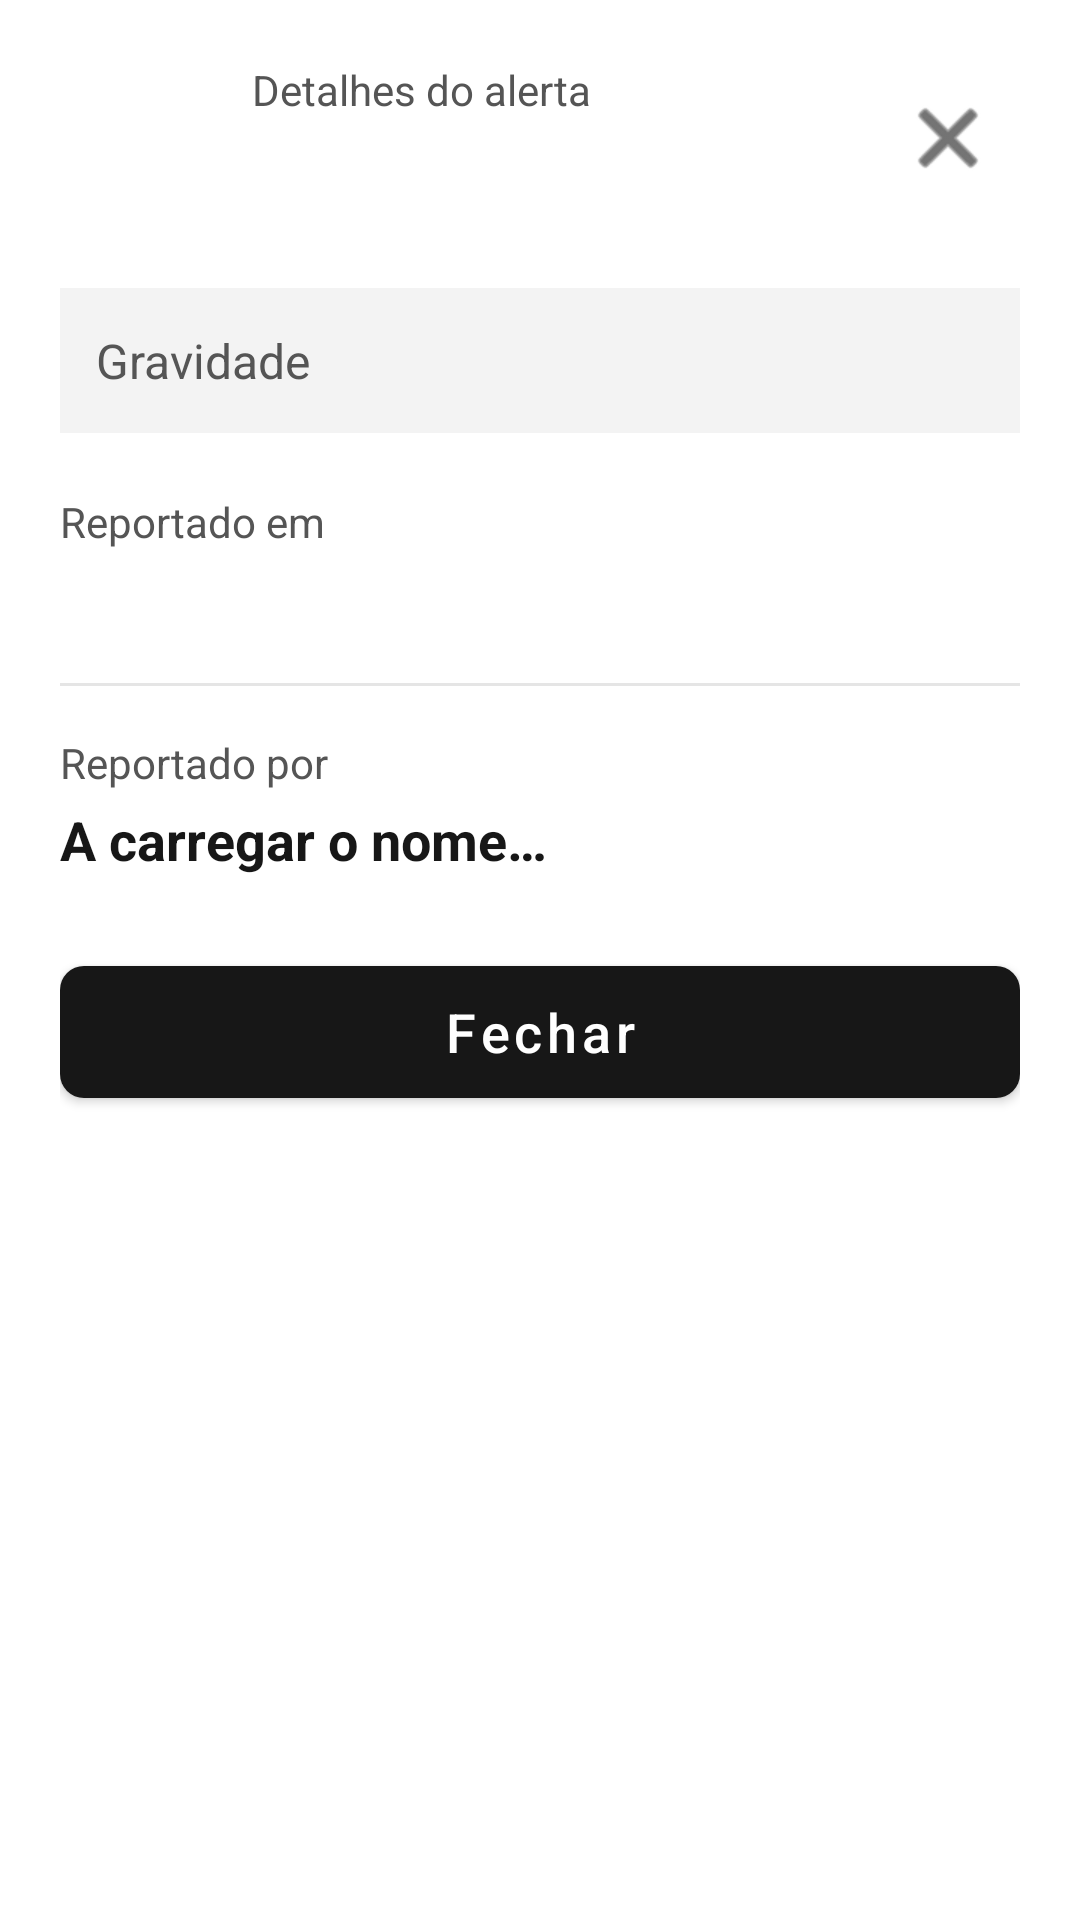

Where icons sit on this 1080×1920 app screen, as (x1, y1, x2, y2):
Fechar: (918, 108, 978, 168)
